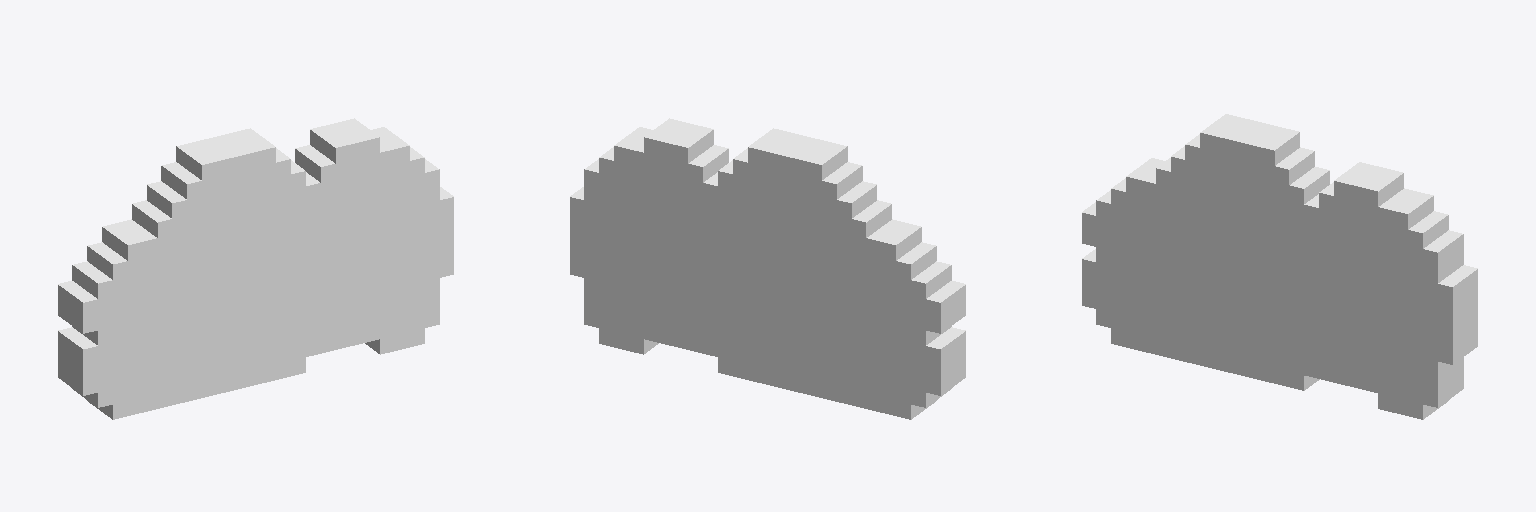
Rendered from death.obj.
3 views of the same model, side by side, from view 1: azimuth 30°, elevation 25°; view 2: azimuth 150°, elevation 25°; view 3: azimuth 330°, elevation 25° (orthographic).
Visible parts, largest first — view 1: object 1; view 2: object 1; view 3: object 1.
Part boxes in pixels (bbox=[...]): object 1: bbox=[58, 118, 453, 419]; object 1: bbox=[570, 118, 965, 419]; object 1: bbox=[1082, 114, 1477, 419].
Bounding box in the file's own units: 2.5 × 1.5 × 0.3.